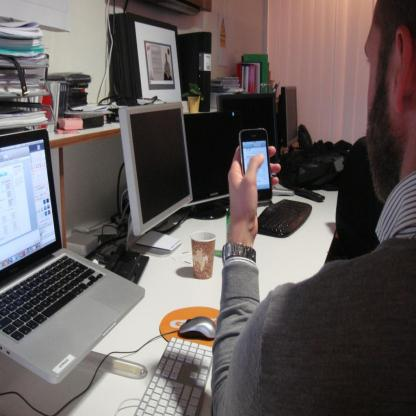board: (0, 115, 130, 401), (190, 232, 216, 278)
